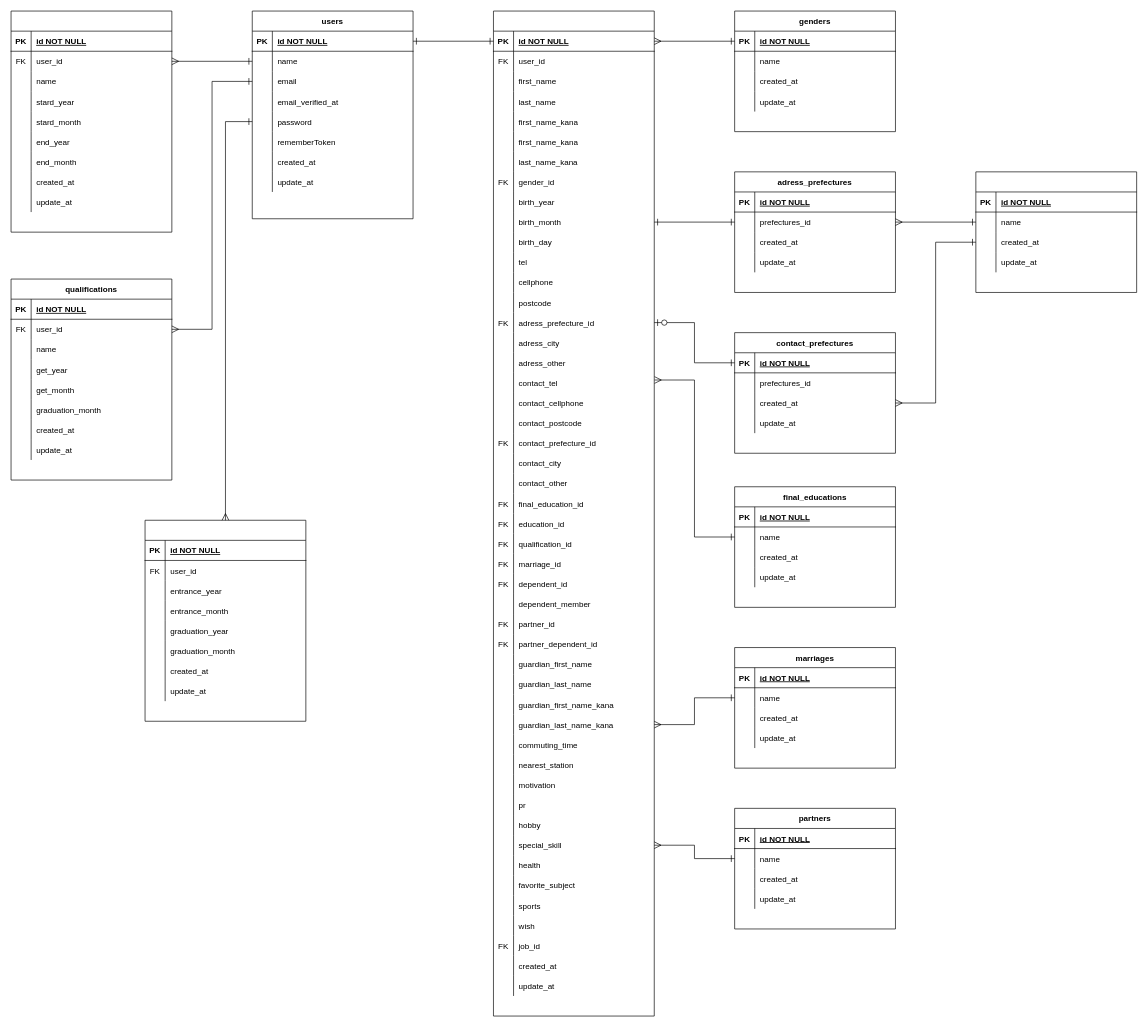
Image size: 1148x1027. Some labels were removed from this diagram. Each missing label, with the box of its shape:
educations: (144, 520, 306, 721)
jobs: (10, 10, 172, 232)
prefectures: (975, 171, 1137, 292)
profiles: (493, 10, 654, 1016)
